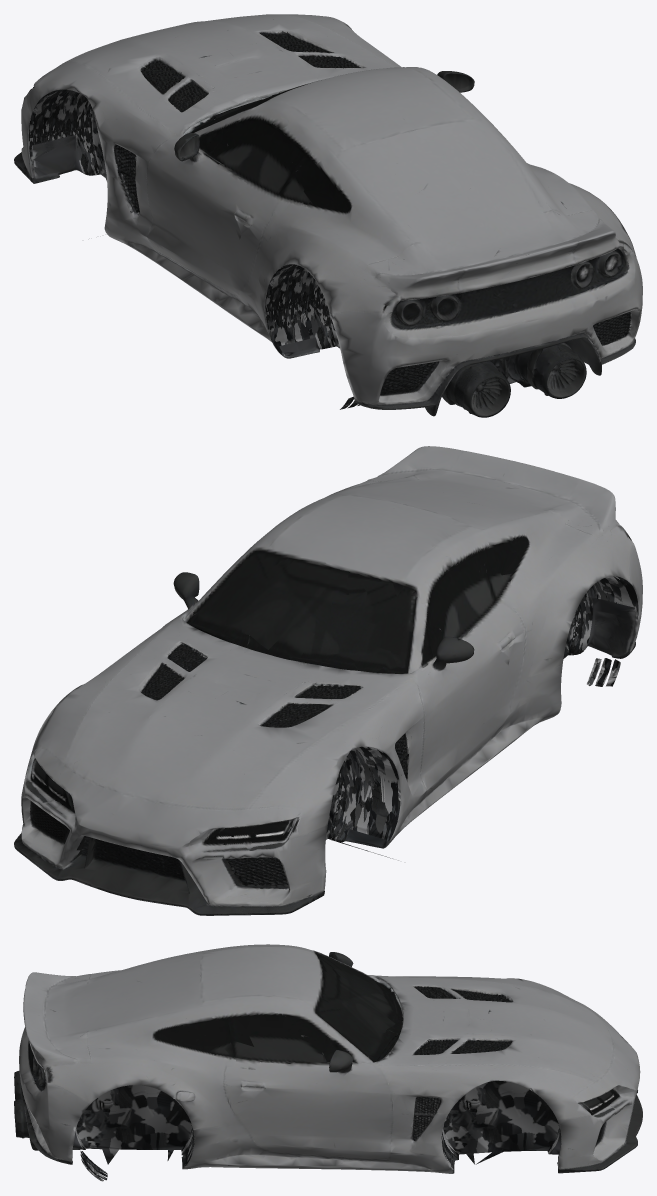
The model's file is bastion.glb.
The picture shows the model from 3 angles, top to bottom: view 1: azimuth 30°, elevation 25°; view 2: azimuth 150°, elevation 25°; view 3: azimuth 270°, elevation 25°; orthographic projection. The views are drawn at different scales.
Visible parts, largest first — view 1: body; view 2: body; view 3: body.
Boxes of the visible parts, <box> form: body: <box>14,14,642,417</box>; body: <box>14,446,642,915</box>; body: <box>14,944,642,1181</box>.
Size of the model in its own units: 2.24 by 1.44 by 4.92.
Materials: 1 (1 with a texture image).
